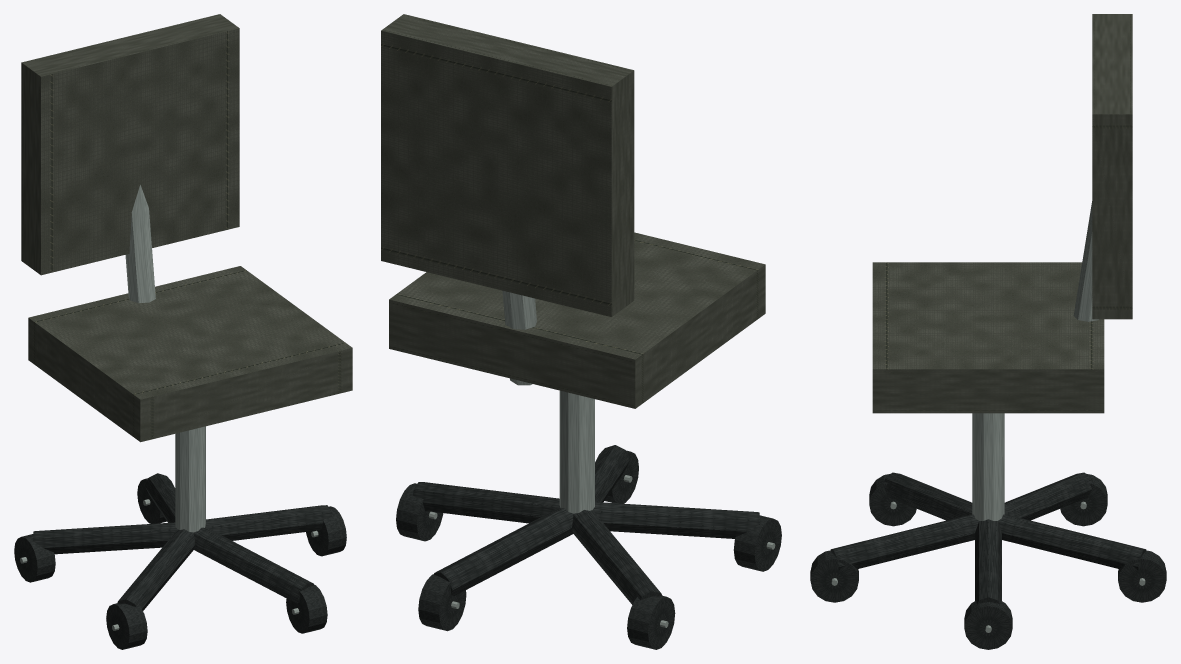
File: OfficeChair.glb
3 views of the same model, side by side, from view 1: azimuth 30°, elevation 25°; view 2: azimuth 150°, elevation 25°; view 3: azimuth 270°, elevation 25° (orthographic). The views are drawn at different scales.
Visible parts, largest first — view 1: OfficeChair; view 2: OfficeChair; view 3: OfficeChair.
Part boxes in pixels (x1,y1,x2,y2): OfficeChair: (14, 14, 352, 649); OfficeChair: (381, 14, 781, 649); OfficeChair: (810, 14, 1166, 649).
Size of the model in its own units: 0.6027 by 1.05 by 0.6606.
Materials: 3 (3 with a texture image).
